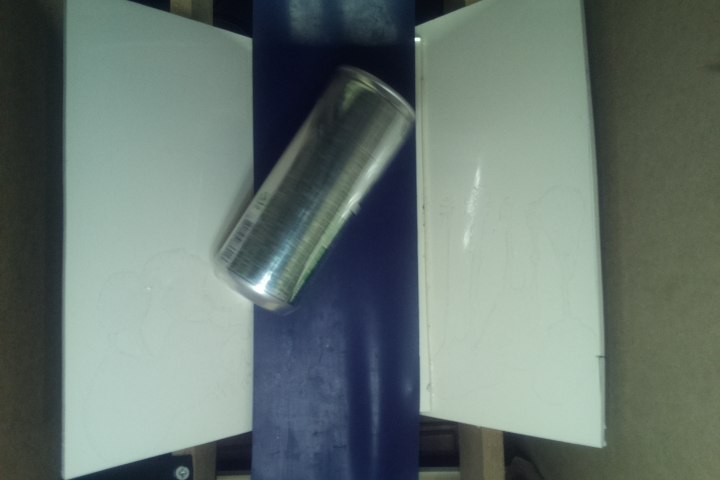can: (211, 59, 419, 315)
